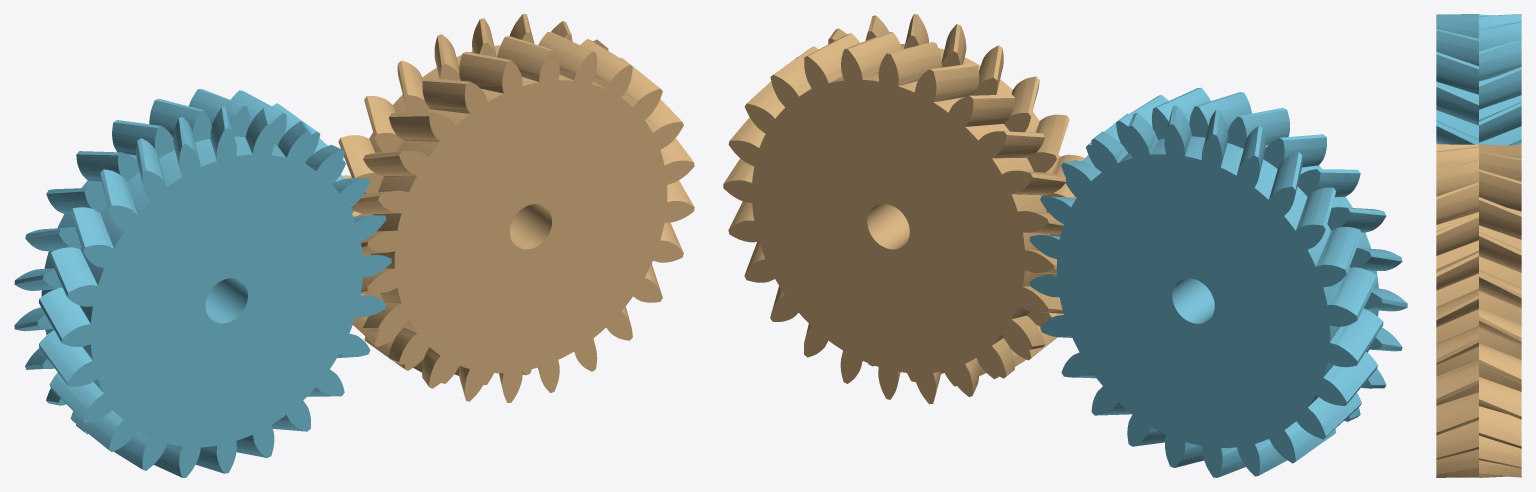
The model's file is herringbone_gear_demo.glb.
3 views of the same model, side by side, from view 1: azimuth 30°, elevation 25°; view 2: azimuth 150°, elevation 25°; view 3: azimuth 270°, elevation 25° (orthographic). The views are drawn at different scales.
Visible parts, largest first — view 1: herringbone_driver, herringbone_driven; view 2: herringbone_driver, herringbone_driven; view 3: herringbone_driven, herringbone_driver.
Boxes of the visible parts, x1=… form: herringbone_driver: x1=14, y1=89, x2=391, y2=477; herringbone_driven: x1=338, y1=14, x2=694, y2=402; herringbone_driver: x1=1029, y1=87, x2=1407, y2=477; herringbone_driven: x1=723, y1=14, x2=1084, y2=404; herringbone_driven: x1=1436, y1=144, x2=1521, y2=477; herringbone_driver: x1=1436, y1=14, x2=1521, y2=145.
Bounding box in the file's own units: 75 × 39 × 10.
